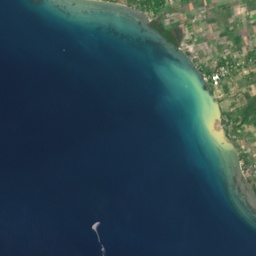Marine Debris: (92, 221, 100, 230), (101, 245, 106, 256), (98, 236, 101, 244)
